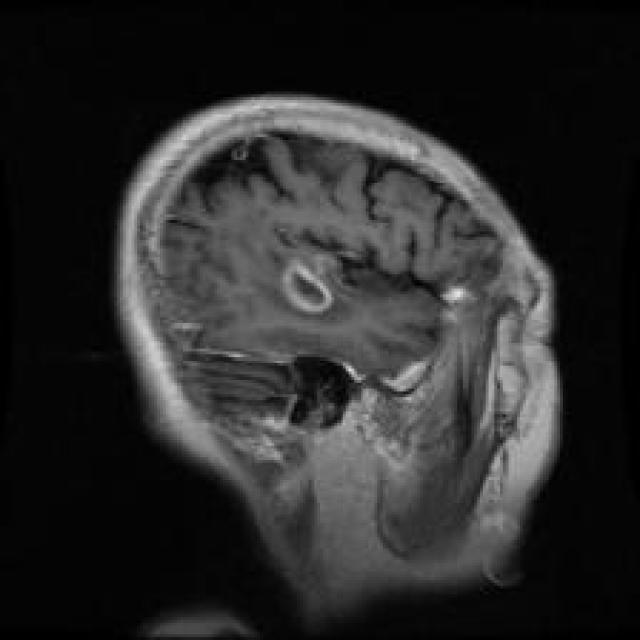glioma_tumor: (274, 246, 347, 328)
